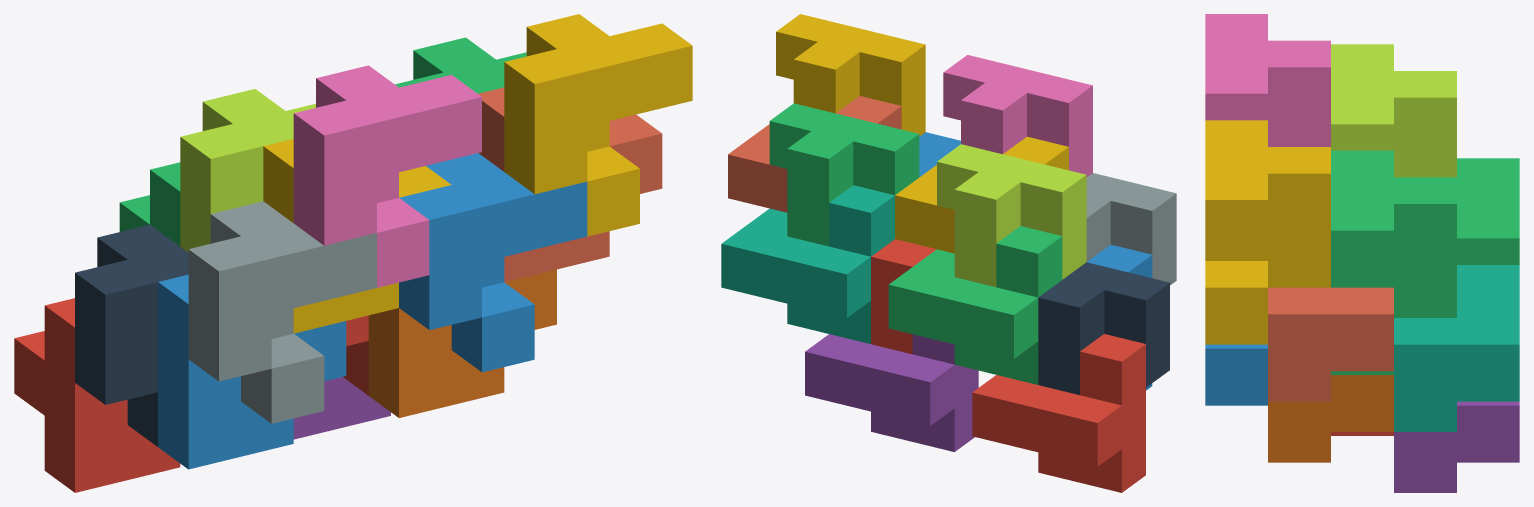
File: tiling.obj
3 renders of one model, left to right at view 1: azimuth 30°, elevation 25°; view 2: azimuth 150°, elevation 25°; view 3: azimuth 270°, elevation 25°, orthographic. The views are drawn at different scales.
Parts seen in each view (by area): view 1: copy_2_domain_8, copy_2_domain_4, copy_2_domain_2, copy_2_domain_6, copy_2_domain_1, copy_1_domain_1, copy_1_domain_2, copy_1_domain_6, copy_2_domain_3, copy_1_domain_8, copy_1_domain_4, copy_2_domain_7 (+3 smaller); view 2: copy_1_domain_1, copy_1_domain_3, copy_1_domain_7, copy_1_domain_5, copy_2_domain_3, copy_2_domain_7, copy_2_domain_8, copy_2_domain_4, copy_2_domain_1, copy_2_domain_2, copy_1_domain_8, copy_1_domain_4 (+3 smaller); view 3: copy_2_domain_8, copy_2_domain_7, copy_1_domain_7, copy_2_domain_3, copy_2_domain_4, copy_1_domain_8, copy_1_domain_5, copy_1_domain_6, copy_1_domain_3, copy_2_domain_6.
Part boxes in pixels (x1,y1,x2,y2): copy_2_domain_8: (504, 14, 692, 236); copy_2_domain_4: (293, 65, 481, 287); copy_2_domain_2: (188, 201, 376, 423); copy_2_domain_6: (399, 153, 587, 372); copy_2_domain_1: (75, 224, 188, 446); copy_1_domain_1: (14, 298, 180, 492); copy_1_domain_2: (158, 274, 346, 469); copy_1_domain_6: (368, 269, 556, 417); copy_2_domain_3: (180, 89, 315, 252); copy_1_domain_8: (478, 87, 662, 282); copy_1_domain_4: (263, 139, 451, 333); copy_2_domain_7: (395, 37, 526, 93); copy_1_domain_1: (972, 334, 1145, 492); copy_1_domain_3: (888, 226, 1062, 384); copy_1_domain_7: (721, 185, 894, 343); copy_1_domain_5: (805, 334, 978, 451); copy_2_domain_3: (937, 144, 1086, 286); copy_2_domain_7: (769, 103, 919, 246); copy_2_domain_8: (776, 14, 925, 136); copy_2_domain_4: (943, 55, 1092, 176); copy_2_domain_1: (1038, 262, 1169, 394); copy_2_domain_2: (1086, 173, 1176, 285); copy_1_domain_8: (728, 96, 901, 212); copy_1_domain_4: (895, 136, 1068, 253); copy_2_domain_8: (1205, 120, 1330, 344); copy_2_domain_7: (1331, 150, 1456, 374); copy_1_domain_7: (1394, 265, 1519, 431); copy_2_domain_3: (1331, 44, 1456, 177); copy_2_domain_4: (1205, 14, 1330, 146); copy_1_domain_8: (1268, 287, 1393, 401); copy_1_domain_5: (1394, 401, 1519, 492); copy_1_domain_6: (1268, 375, 1393, 462); copy_1_domain_3: (1457, 158, 1519, 264); copy_2_domain_6: (1205, 344, 1267, 405).
Bounding box in the file's own units: 10 × 7 × 5.
